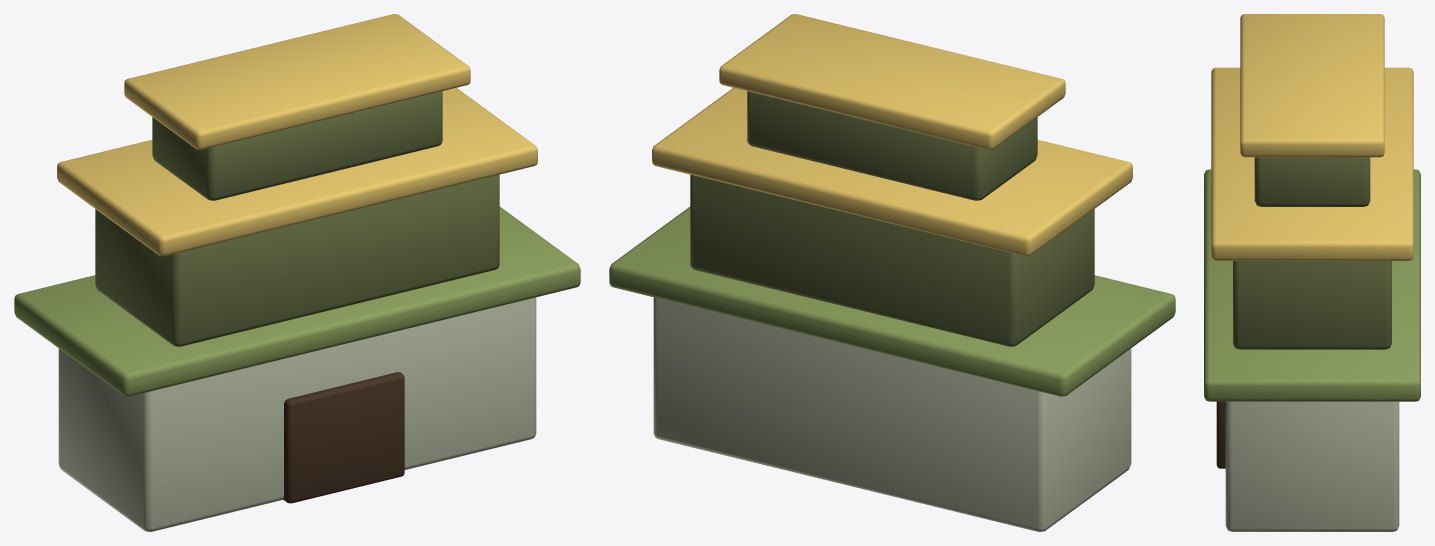
3 renders of one model, left to right at view 1: azimuth 30°, elevation 25°; view 2: azimuth 150°, elevation 25°; view 3: azimuth 270°, elevation 25°, orthographic. The views are drawn at different scales.
Visible parts, largest first — view 1: landmark_7feda526; view 2: landmark_7feda526; view 3: landmark_7feda526.
Boxes of the visible parts, left/top/right/bottom form: landmark_7feda526: left=14, top=14, right=580, bottom=531; landmark_7feda526: left=609, top=14, right=1175, bottom=531; landmark_7feda526: left=1204, top=14, right=1420, bottom=531.
Size of the model in its own units: 7 by 5.59 by 3.
